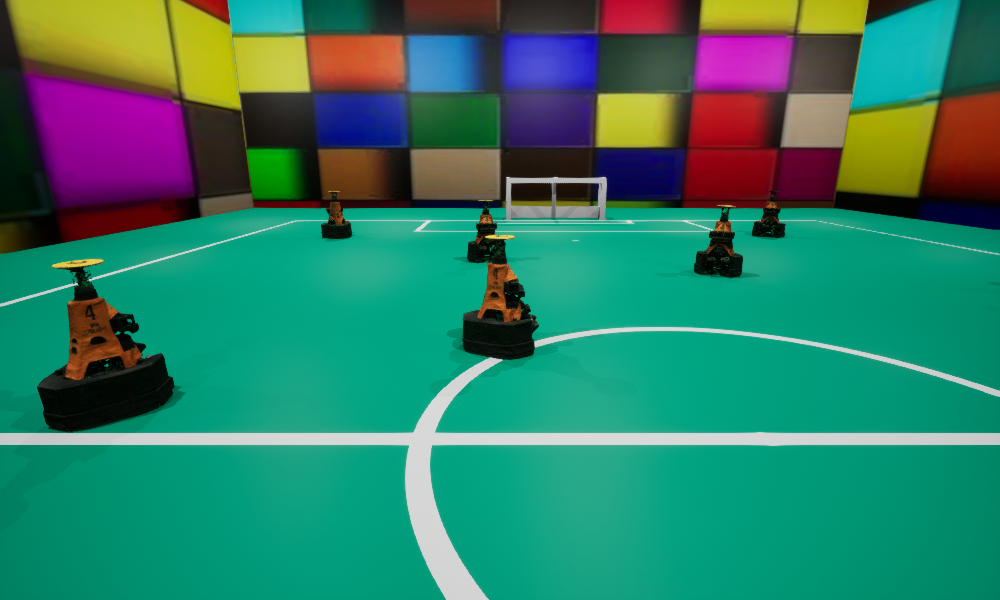o: (37, 259, 174, 431), (462, 235, 538, 359), (694, 205, 742, 276), (467, 200, 505, 262), (752, 191, 785, 236), (321, 191, 351, 238)
